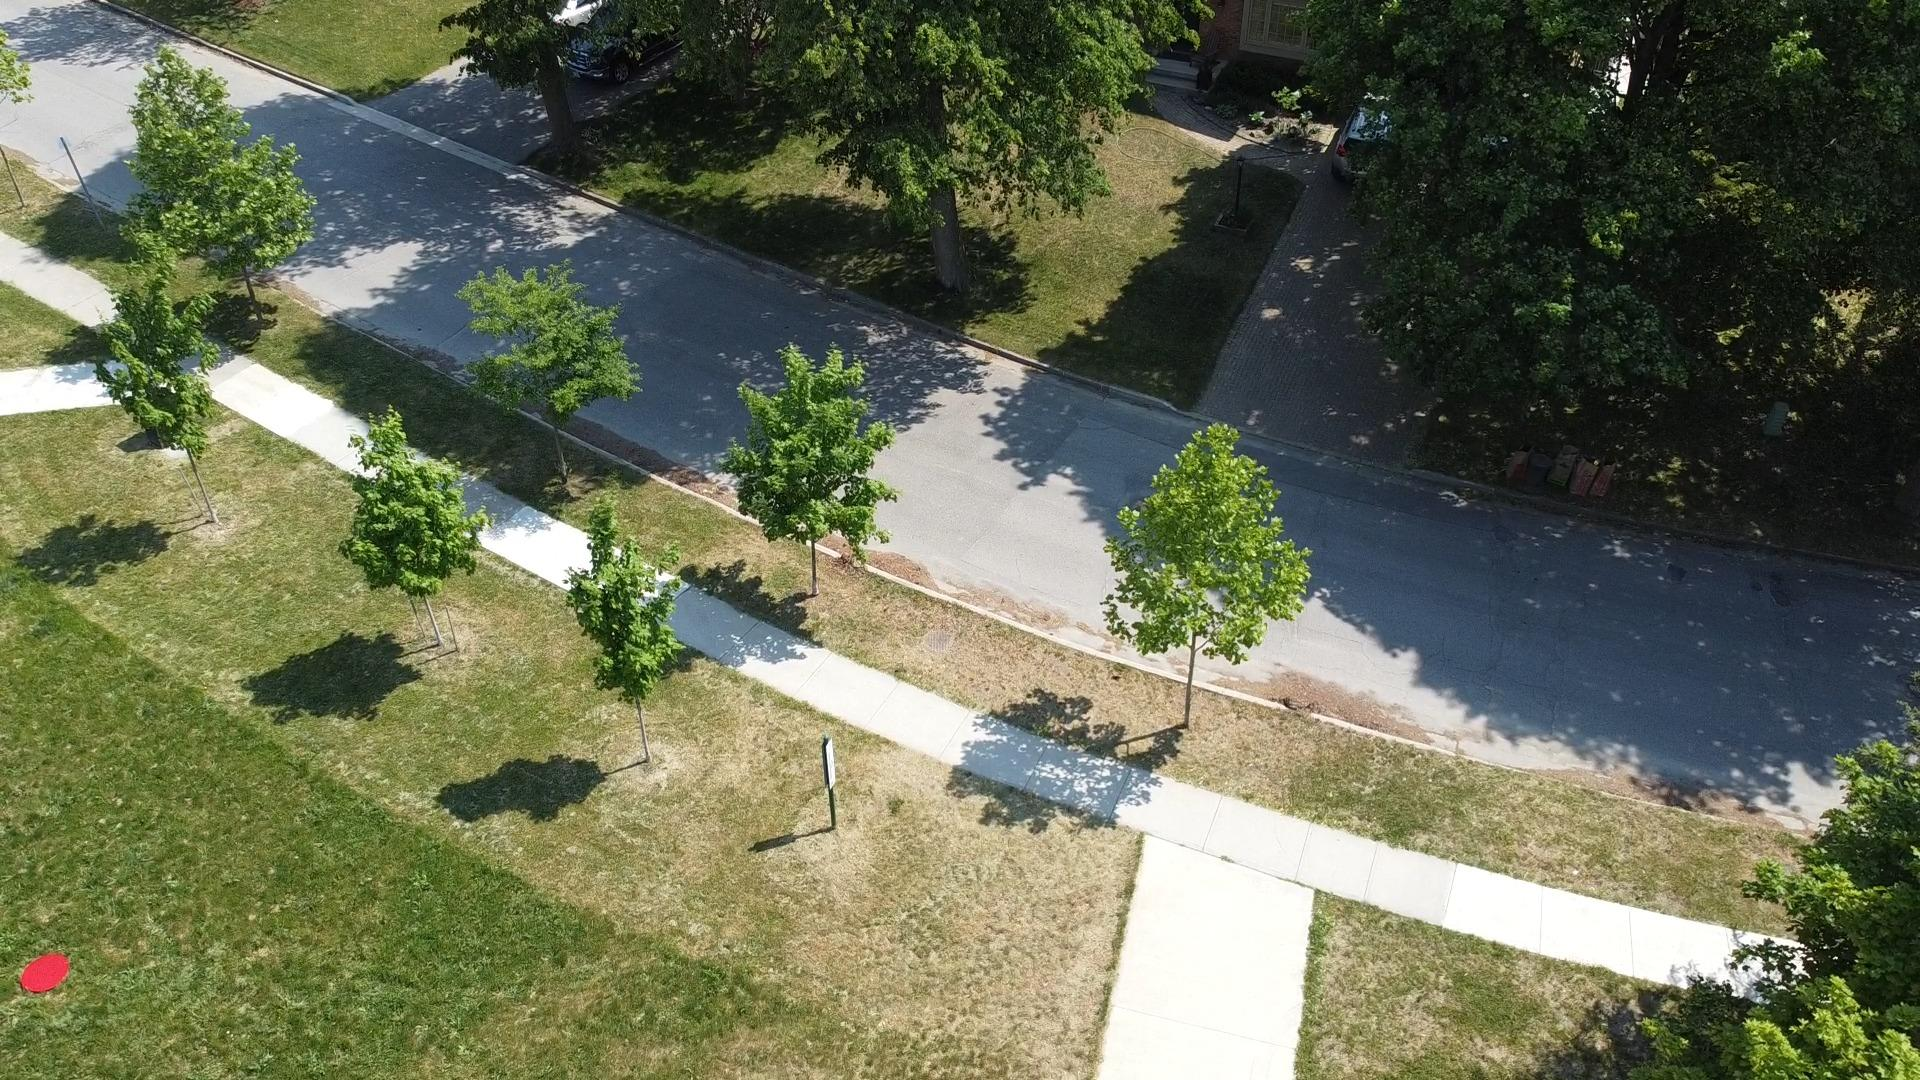Red: (20, 952, 70, 993)
